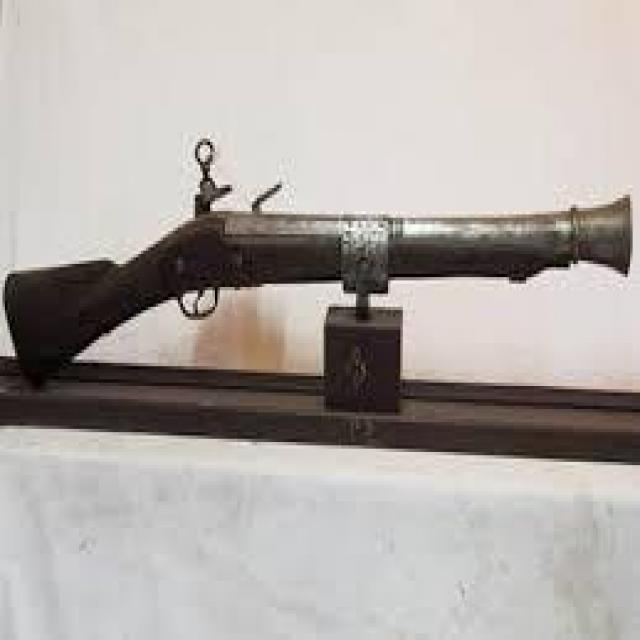weapon: (0, 132, 635, 396)
